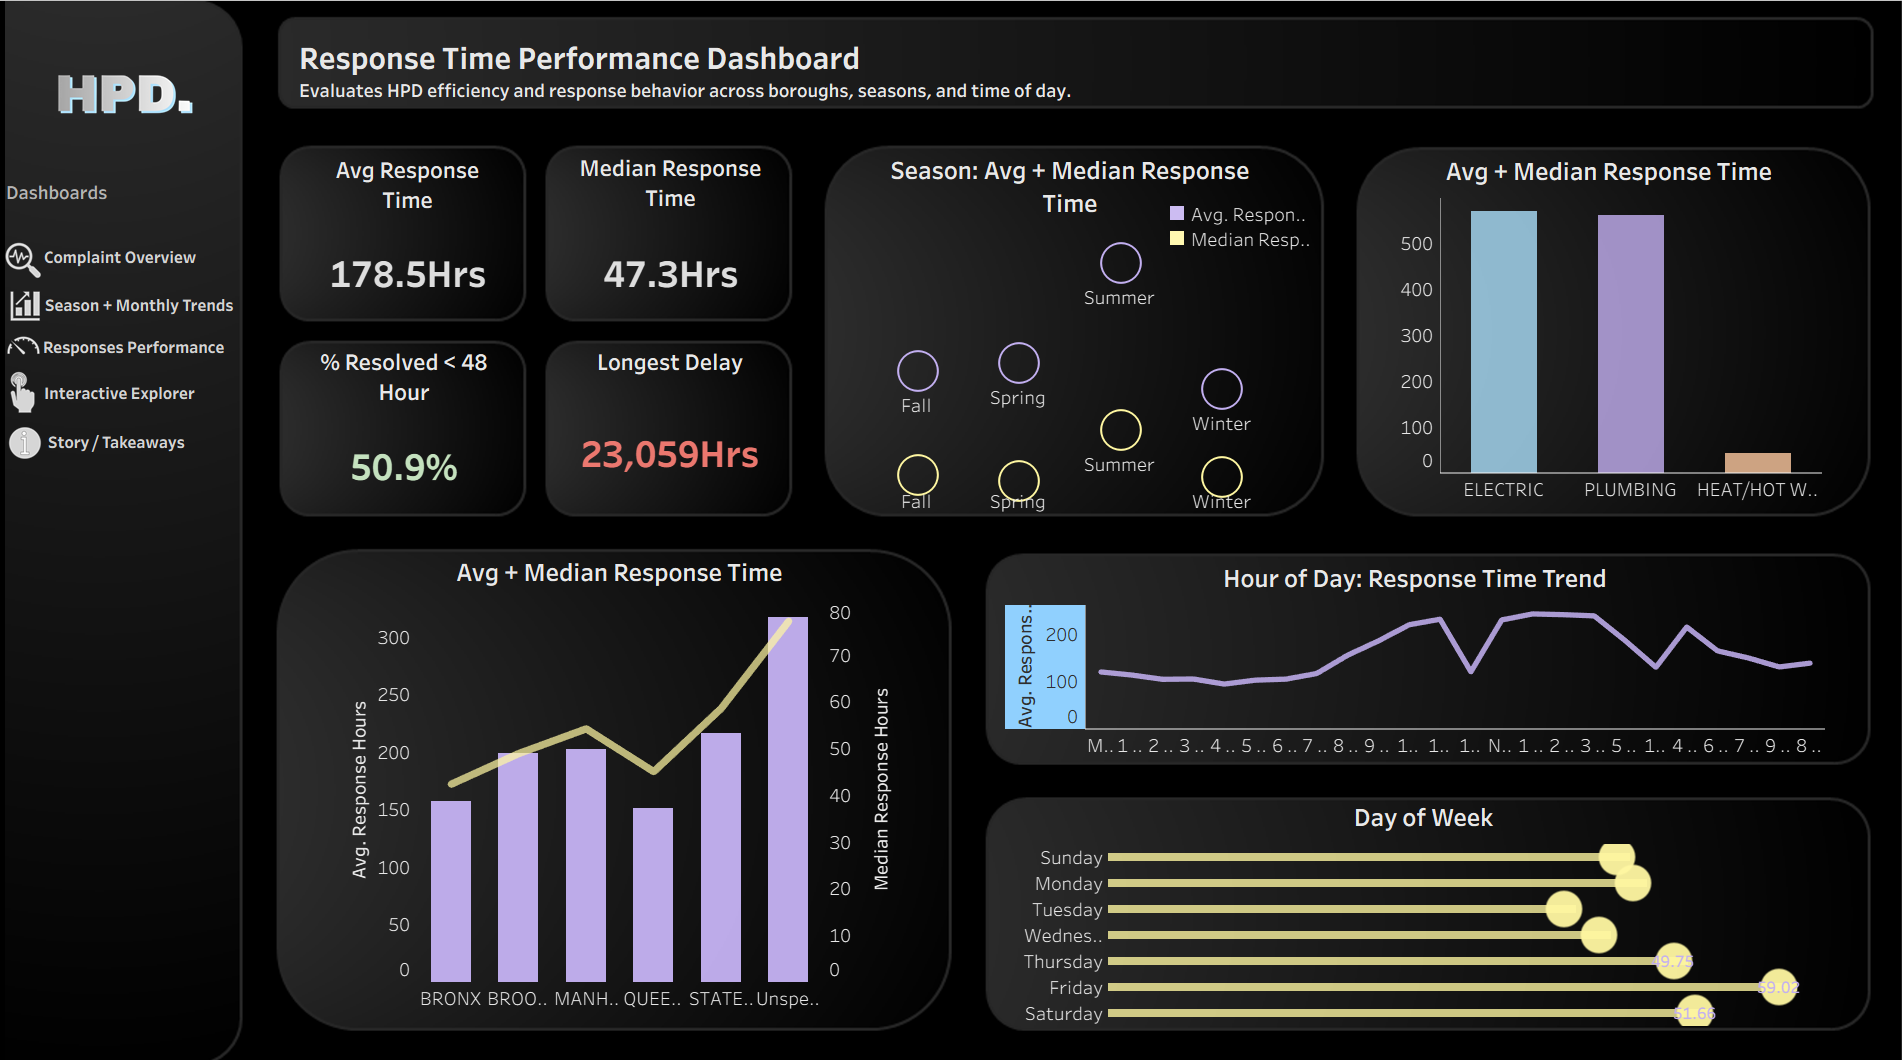

What the dashboard file says about the page in this screenshot:
{"tool":"tableau","page":{"name":"Dashboard 3","canvas":[1920,1080],"ordinal":2},"visuals":[{"type":"image","param":"C:/Users/nelso/OneDrive/Desktop/DPD Dash 3.png","box":[8,8,1904,1064]},{"type":"image","param":"C:/Users/nelso/AppData/Local/Temp/TableauTemp/0lfkazb0qi0guh1554uku0vzvky3/Sheet","box":[18,18,230,173]},{"type":"text","box":[304,34,783,85]},{"type":"worksheet","title":"D3-KPI-2","mark":"Text","box":[579,155,201,174]},{"type":"worksheet","title":"D3-D- Season: Avg Response Time","mark":"Shape","rows":["response_hours","response_hours"],"cols":["season"],"box":[876,156,406,366]},{"type":"worksheet","title":"D3-KPI-1","mark":"Text","box":[316,157,201,171]},{"type":"worksheet","title":"D3-B- Complaint T: Avg Response Time","mark":"Bar","rows":["response_hours"],"cols":["Complaint Type"],"box":[1405,157,426,363]},{"type":"text","box":[11,184,110,30]},{"type":"legend","title":"D3-b/d- Avg.Med Response ","param":"[federated.1kdeqq41o98p49128sxix1qtlnvn].[:Measure Names]","box":[1174,208,150,51]},{"type":"dashboard-object","box":[19,252,221,25]},{"type":"dashboard-object","box":[34,292,228,40]},{"type":"dashboard-object","box":[19,330,249,48]},{"type":"worksheet","title":"D3-KPI-3","mark":"Text","box":[319,349,188,172]},{"type":"worksheet","title":"D3-KPI-4","mark":"Text","box":[578,349,202,176]},{"type":"dashboard-object","box":[33,373,190,54]},{"type":"dashboard-object","box":[43,423,164,52]},{"type":"worksheet","title":"D3-b/d- Avg.Med Response ","mark":"Circle","rows":["response_hours","Calculation_2010012826694766608"],"cols":["Borough"],"box":[348,558,561,471]},{"type":"worksheet","title":"D3-L- Hour of Day Response T","mark":"Line","rows":["response_hours"],"cols":["Calculation_2010012827015933981"],"box":[1014,564,820,212]},{"type":"worksheet","title":"D3-LOL- Day of week","mark":"Bar","rows":["day_of_week"],"cols":["Calculation_2010012826694766608","Calculation_2010012826694766608"],"box":[1025,803,815,230]}]}

Visuals, with their boxes on the page's 1920x1080 design canvas (x1, y1, x2, y2). These are canvas units, not pixel positions in the 1902x1060 screenshot, which may show the page scaled, cropped or inside an application window:
image: bbox=(8, 8, 1912, 1072)
image: bbox=(18, 18, 248, 191)
text: bbox=(304, 34, 1087, 119)
"D3-KPI-2" worksheet (Text marks): bbox=(579, 155, 780, 329)
"D3-D- Season: Avg Response Time" worksheet (Shape marks): bbox=(876, 156, 1282, 522)
"D3-KPI-1" worksheet (Text marks): bbox=(316, 157, 517, 328)
"D3-B- Complaint T: Avg Response Time" worksheet (Bar marks): bbox=(1405, 157, 1831, 520)
text: bbox=(11, 184, 121, 214)
"D3-b/d- Avg.Med Response " legend: bbox=(1174, 208, 1324, 259)
dashboard-object: bbox=(19, 252, 240, 277)
dashboard-object: bbox=(34, 292, 262, 332)
dashboard-object: bbox=(19, 330, 268, 378)
"D3-KPI-3" worksheet (Text marks): bbox=(319, 349, 507, 521)
"D3-KPI-4" worksheet (Text marks): bbox=(578, 349, 780, 525)
dashboard-object: bbox=(33, 373, 223, 427)
dashboard-object: bbox=(43, 423, 207, 475)
"D3-b/d- Avg.Med Response " worksheet (Circle marks): bbox=(348, 558, 909, 1029)
"D3-L- Hour of Day Response T" worksheet (Line marks): bbox=(1014, 564, 1834, 776)
"D3-LOL- Day of week" worksheet (Bar marks): bbox=(1025, 803, 1840, 1033)
